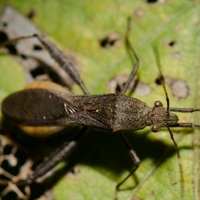insect: (0, 81, 199, 199)
